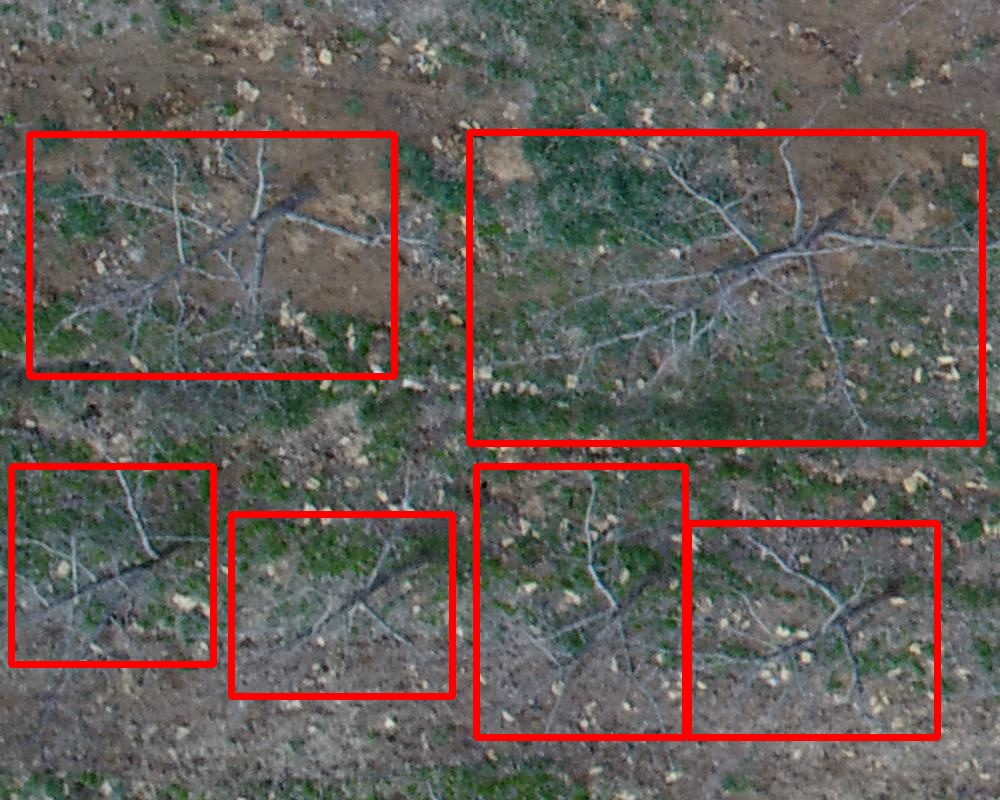apple: (469, 132, 982, 443), (29, 134, 394, 376), (476, 466, 685, 737), (688, 523, 937, 737), (231, 514, 452, 696), (11, 466, 213, 664)
